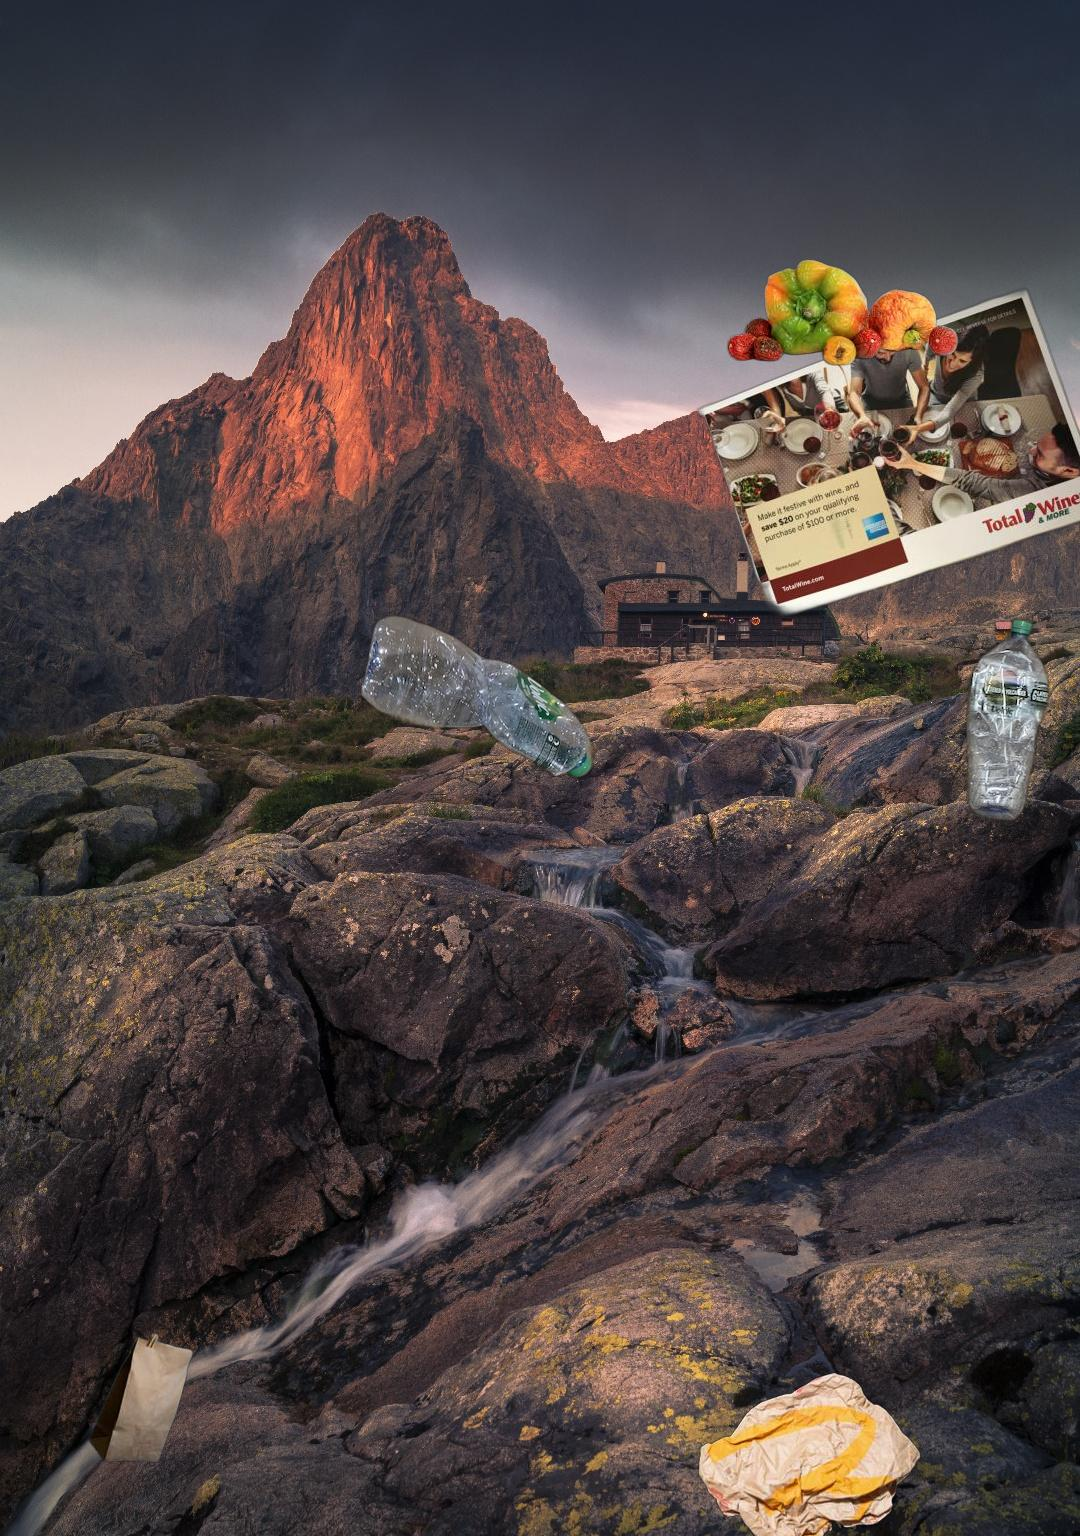biological: (724, 257, 961, 368)
paper: (667, 284, 1080, 641)
paper-bag: (695, 1370, 925, 1536), (79, 1327, 196, 1464)
plastic-bottles: (356, 613, 600, 781), (961, 613, 1053, 826)
